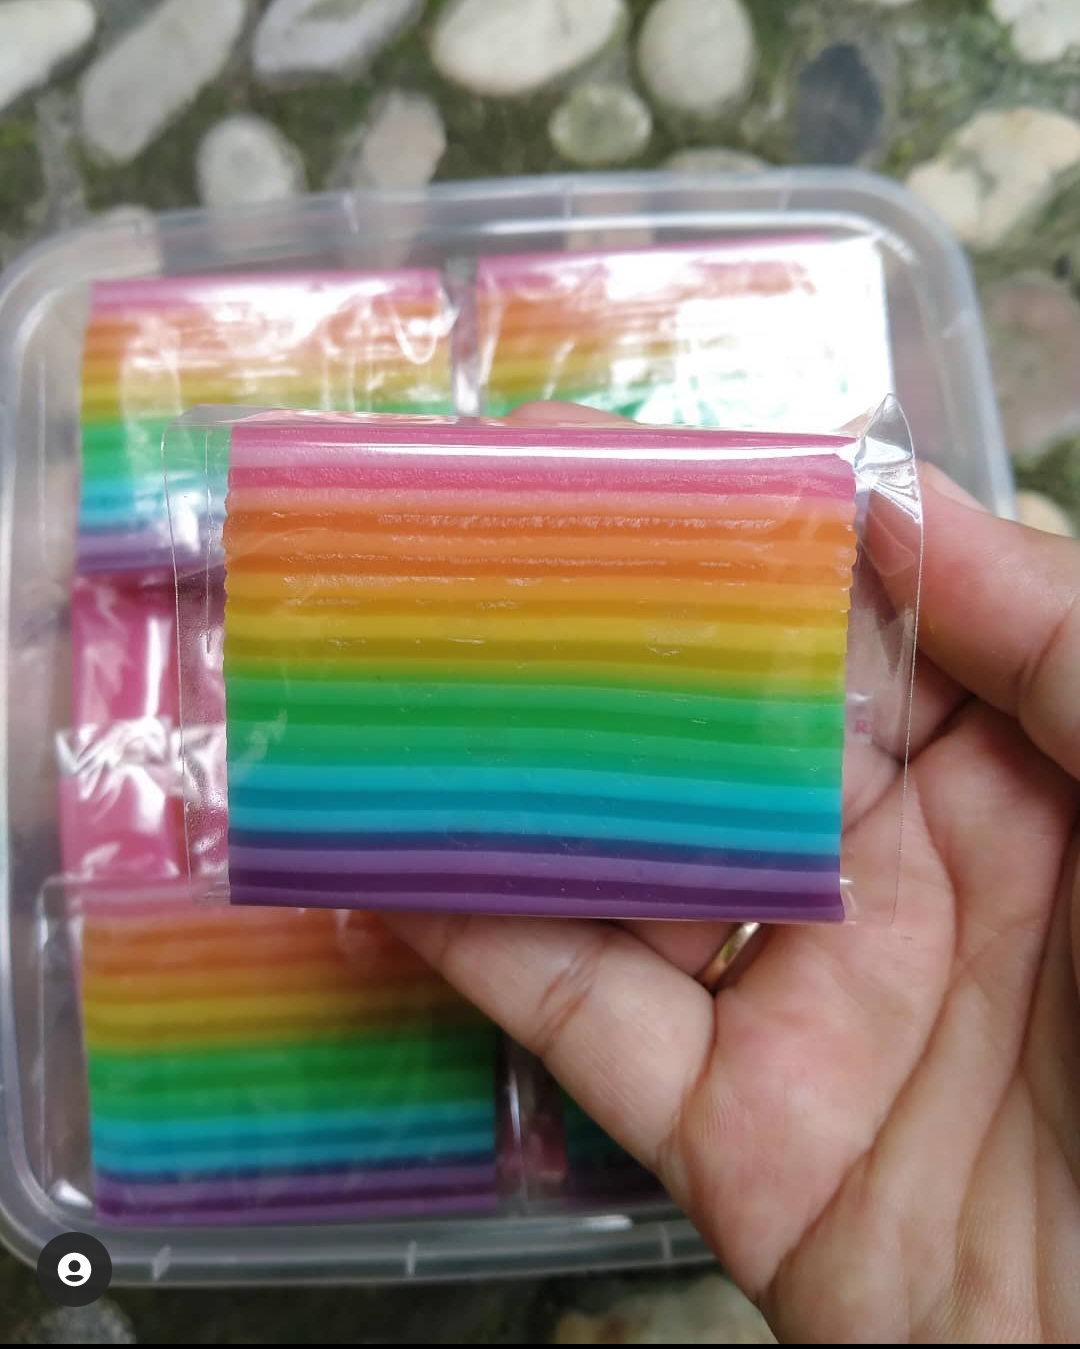kue_lapis_pelangi: (222, 422, 847, 917)
